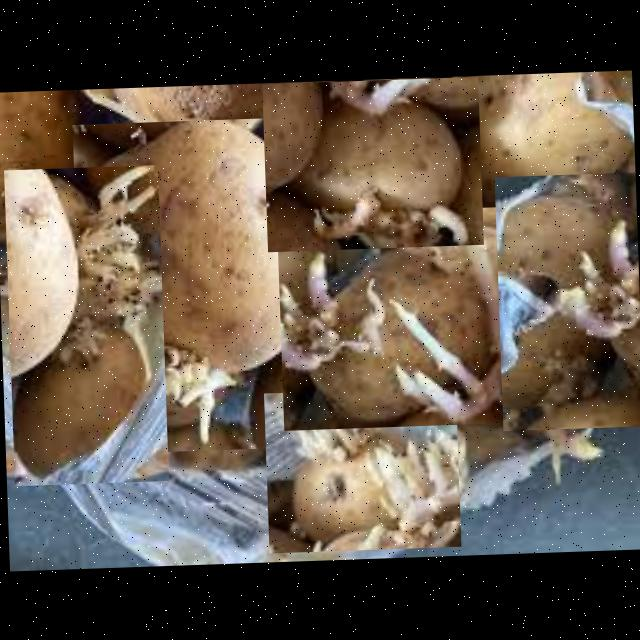Sprouted potato: (70, 114, 334, 453), (276, 203, 560, 430), (2, 163, 168, 484), (260, 76, 482, 250), (493, 171, 640, 430), (262, 385, 460, 552)
